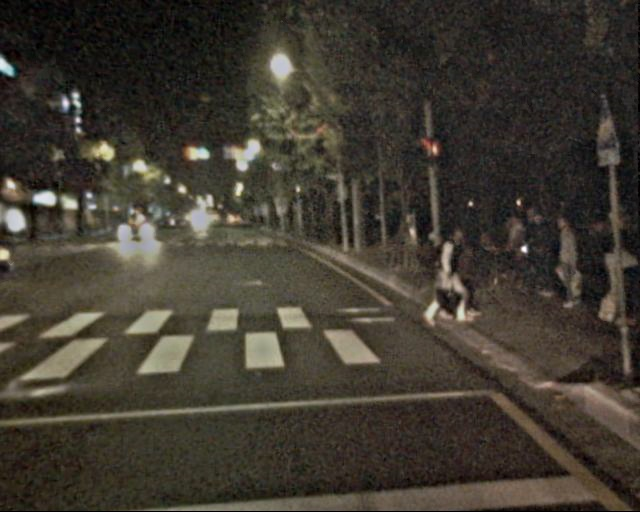person: (506, 209, 561, 295), (430, 225, 473, 329), (596, 231, 637, 330), (553, 215, 592, 311)
